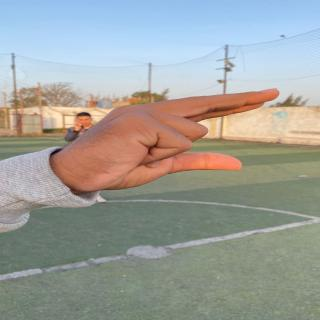DHELL: (70, 82, 292, 201)
